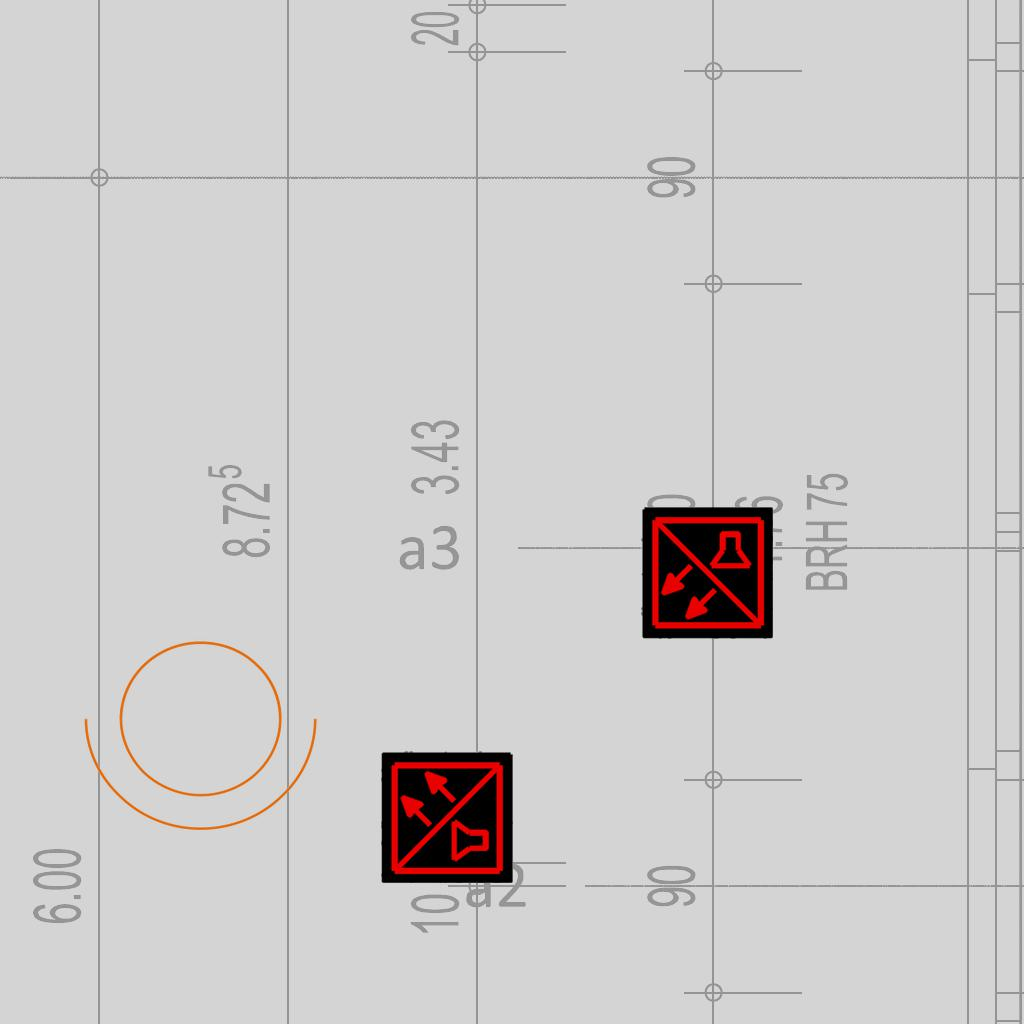OKW_Multisensormelder_(Kombination_optischer_Rauch-Kahlenmonoxid_Waerme-Melder): (641, 507, 773, 639), (381, 751, 513, 883)
Scheinwerfer_fuer_Alarmbeleuchtung: (75, 616, 339, 841)
